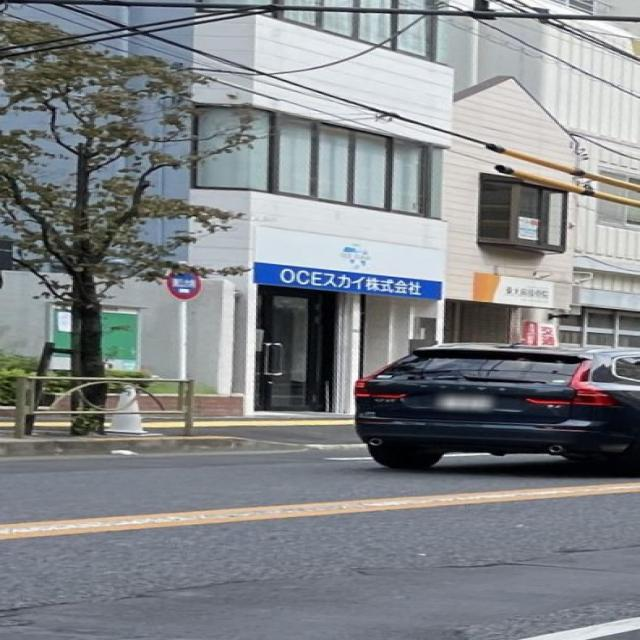dogwood: (0, 20, 286, 435)
